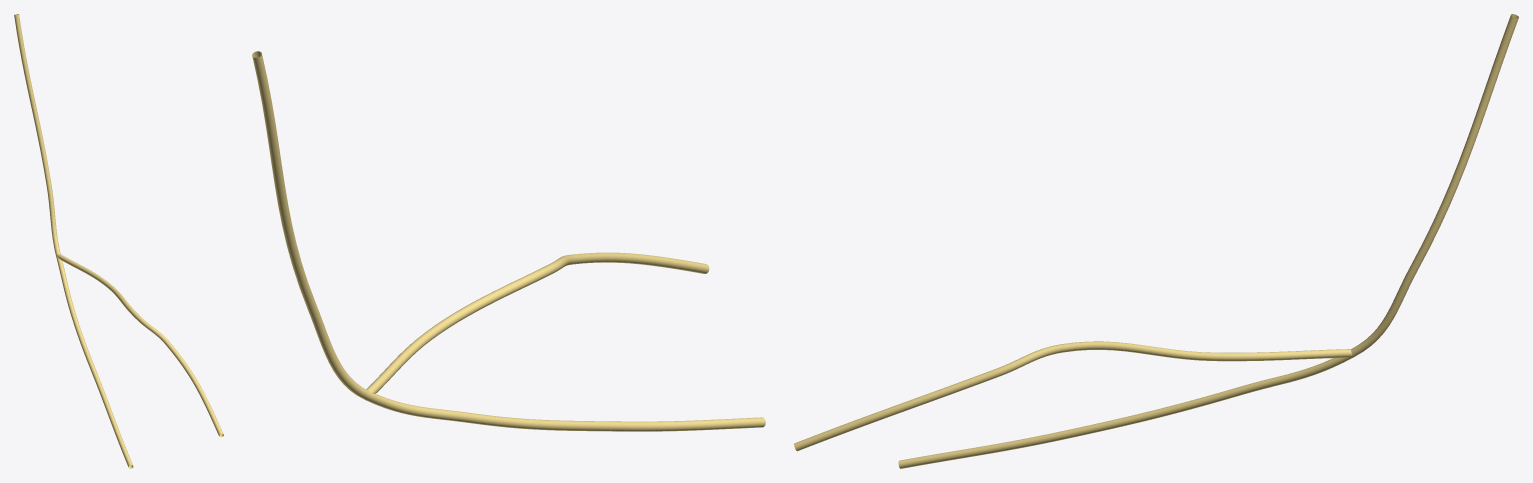
3 renders of one model, left to right at view 1: azimuth 30°, elevation 25°; view 2: azimuth 150°, elevation 25°; view 3: azimuth 270°, elevation 25°, orthographic. The views are drawn at different scales.
Visible parts, largest first — view 1: ZA_ef889b6e66324958; view 2: ZA_ef889b6e66324958; view 3: ZA_ef889b6e66324958.
Boxes of the visible parts, box(x1,y1,x2,y2) form: ZA_ef889b6e66324958: box(14, 14, 223, 468); ZA_ef889b6e66324958: box(252, 51, 765, 431); ZA_ef889b6e66324958: box(794, 14, 1518, 468).
Size of the model in its own units: 0.0174 by 0.066 by 0.0851.
